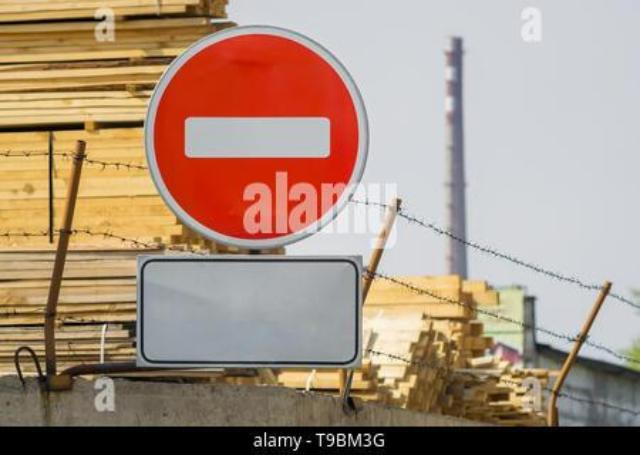B2: (143, 23, 371, 249)
